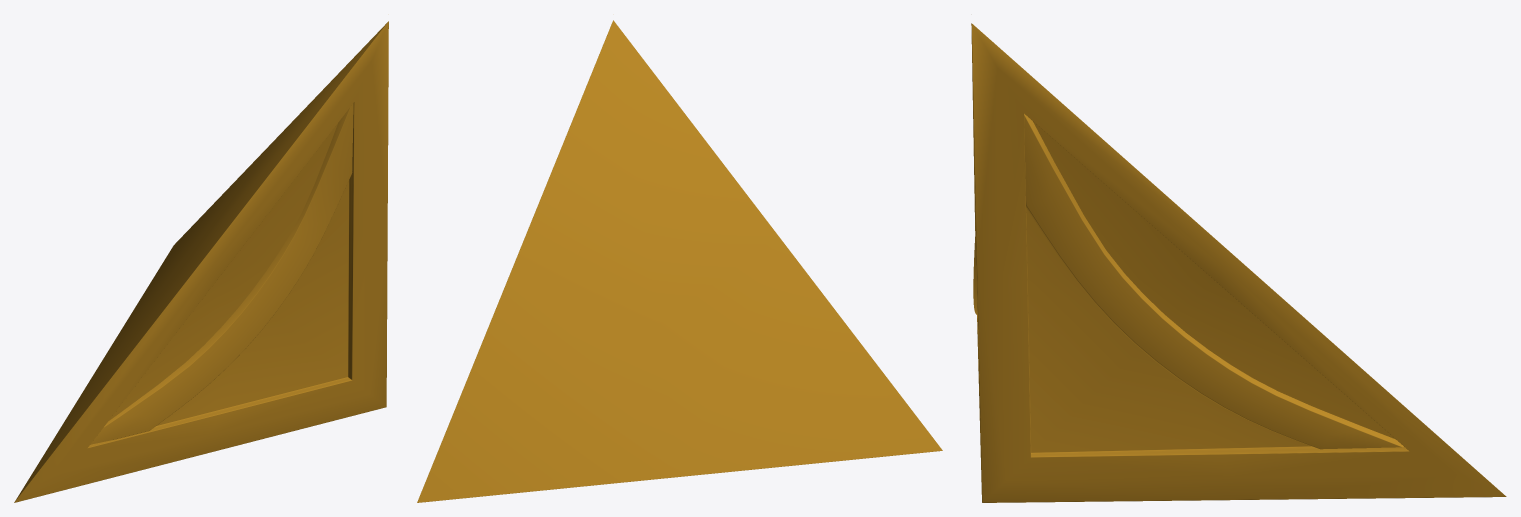
The model's file is Holocron_Esquina_06.obj.
The picture shows the model from 3 angles, left to right: view 1: azimuth 30°, elevation 25°; view 2: azimuth 150°, elevation 25°; view 3: azimuth 270°, elevation 25°; orthographic projection. The views are drawn at different scales.
Parts seen in each view (by area): view 1: Holocron_Esquina_06; view 2: Holocron_Esquina_06; view 3: Holocron_Esquina_06.
Boxes of the visible parts, x1,y1,x2,y2 form: Holocron_Esquina_06: (14,21,388,502); Holocron_Esquina_06: (417,20,942,502); Holocron_Esquina_06: (971,23,1506,502).
Bounding box in the file's own units: 5.17 × 5.25 × 5.19.
